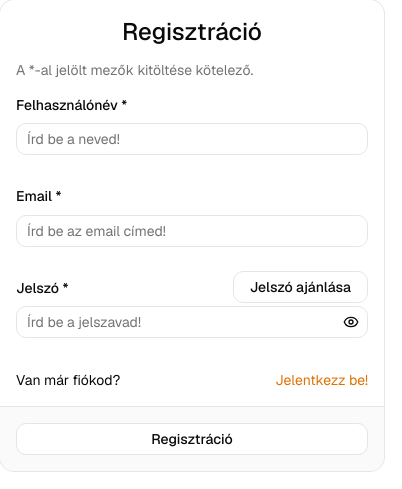
it: RegisterForm component › disables inputs and buttons during submission
Type "TestUser" into the field labelled "Felhasználónév *" at (192, 139), box x1=16 y1=123 x2=368 y2=155
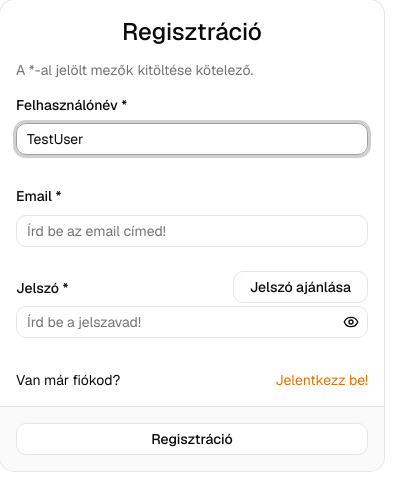
Type "test@example.com" into the field labelled "Email *" at (192, 230), box x1=16 y1=214 x2=368 y2=246
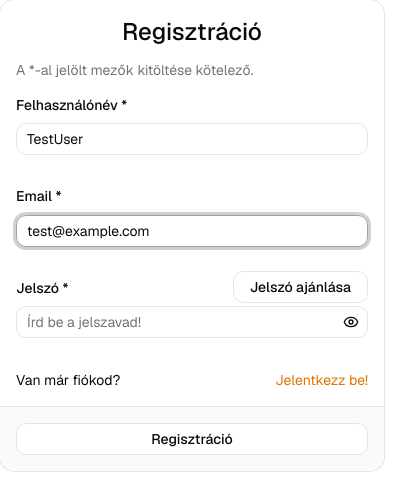
Type "ValidPass123" into the password field labelled "Jelszó *" at (192, 322), box x1=16 y1=306 x2=368 y2=338
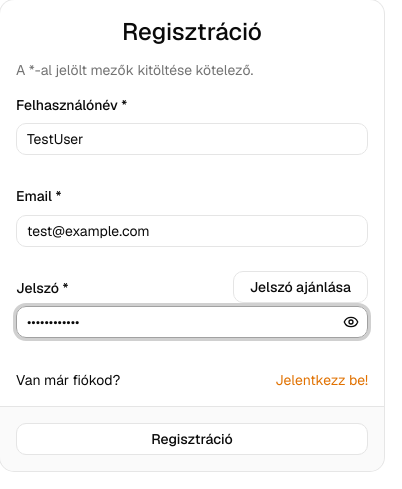
Click the button "Regisztráció" at (192, 439), box x1=16 y1=423 x2=368 y2=455
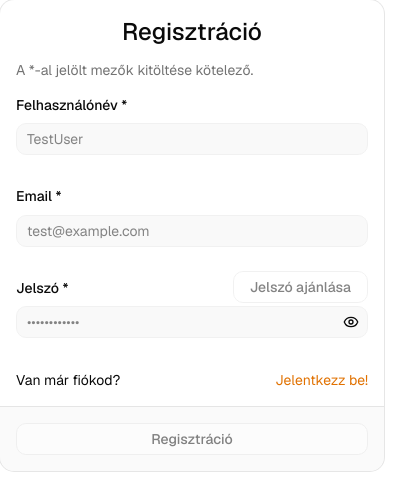
Expected: the field labelled "Felhasználónév *" is disabled, x1=16 y1=123 x2=368 y2=155
Expected: the field labelled "Email *" is disabled, x1=16 y1=214 x2=368 y2=246
Expected: the password field labelled "Jelszó *" is disabled, x1=16 y1=306 x2=368 y2=338
